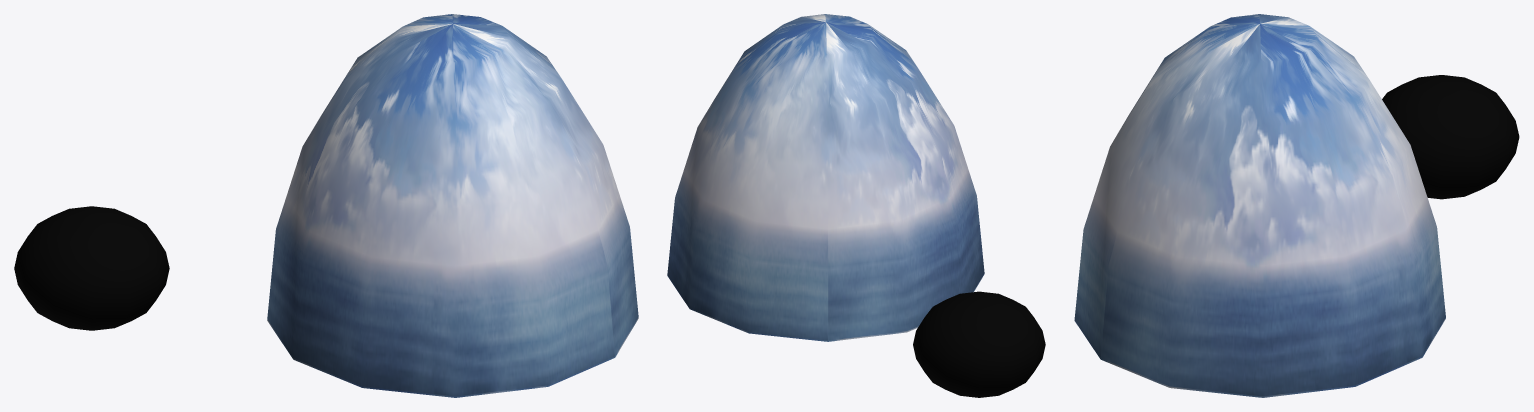
The model's file is env_raka_temple_beach_01_pre.glb.
3 views of the same model, side by side, from view 1: azimuth 30°, elevation 25°; view 2: azimuth 150°, elevation 25°; view 3: azimuth 270°, elevation 25° (orthographic). The views are drawn at different scales.
Parts seen in each view (by area): view 1: skybox_01_mesh (1), hoth_skybox_01_mesh; view 2: skybox_01_mesh (1), hoth_skybox_01_mesh; view 3: skybox_01_mesh (1), hoth_skybox_01_mesh.
Part boxes in pixels (<box>): skybox_01_mesh (1): <box>267,14,638,397</box>; hoth_skybox_01_mesh: <box>14,206,169,330</box>; skybox_01_mesh (1): <box>667,14,984,341</box>; hoth_skybox_01_mesh: <box>913,291,1045,397</box>; skybox_01_mesh (1): <box>1074,14,1445,397</box>; hoth_skybox_01_mesh: <box>1382,75,1519,199</box>.
Size of the model in its own units: 1917 by 1100 by 1482.
28 materials, 28 textured.
